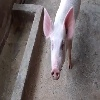heo: (41, 4, 74, 81)
